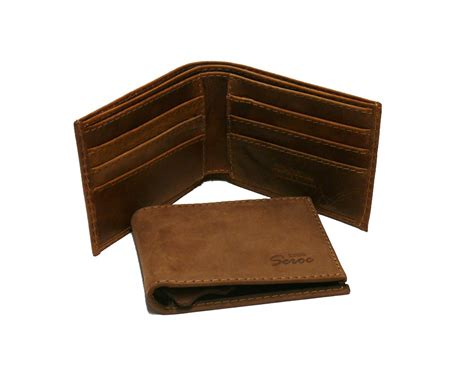cuero: (73, 60, 383, 316)
